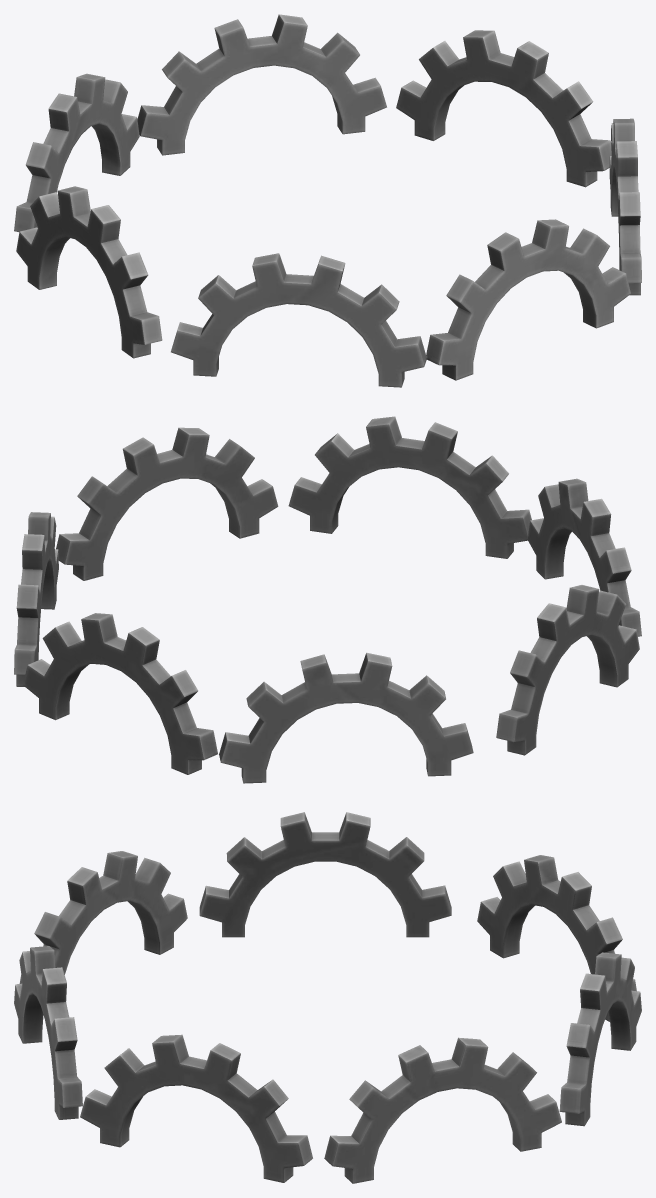
The model's file is obj_wheels01_alt.gltf.
The picture shows the model from 3 angles, top to bottom: view 1: azimuth 30°, elevation 25°; view 2: azimuth 150°, elevation 25°; view 3: azimuth 270°, elevation 25°; orthographic projection.
Visible parts, largest first — view 1: obj_wheels01_alt; view 2: obj_wheels01_alt; view 3: obj_wheels01_alt.
Boxes of the visible parts, x1=… form: obj_wheels01_alt: x1=14, y1=14, x2=641, y2=387; obj_wheels01_alt: x1=14, y1=416, x2=641, y2=783; obj_wheels01_alt: x1=14, y1=812, x2=641, y2=1183.
Size of what is drawn, in the model's own units: 1.85 by 0.3894 by 1.9.
1 material, 1 textured.
